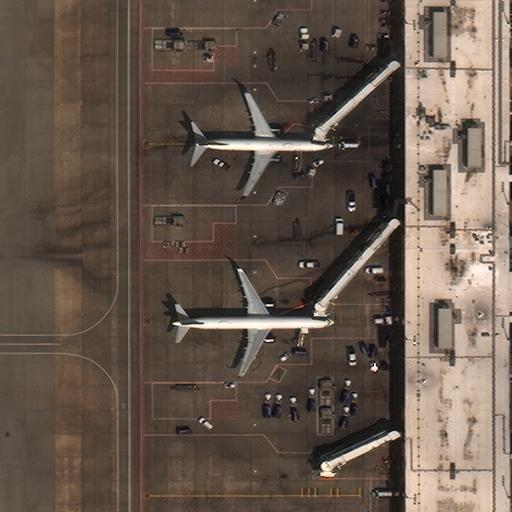Medium Civil Transport: (168, 268, 337, 375), (192, 93, 336, 195)
